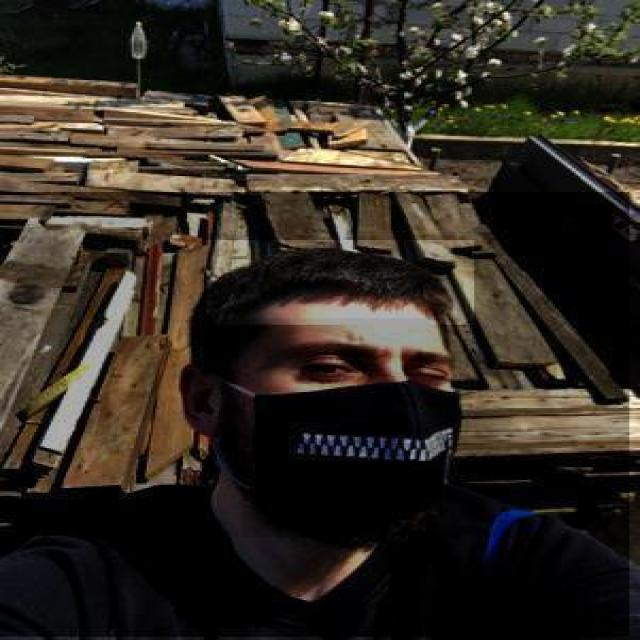face_mask: (242, 318, 460, 540)
head_nohelmet: (206, 240, 474, 325)
person: (0, 191, 631, 638)
